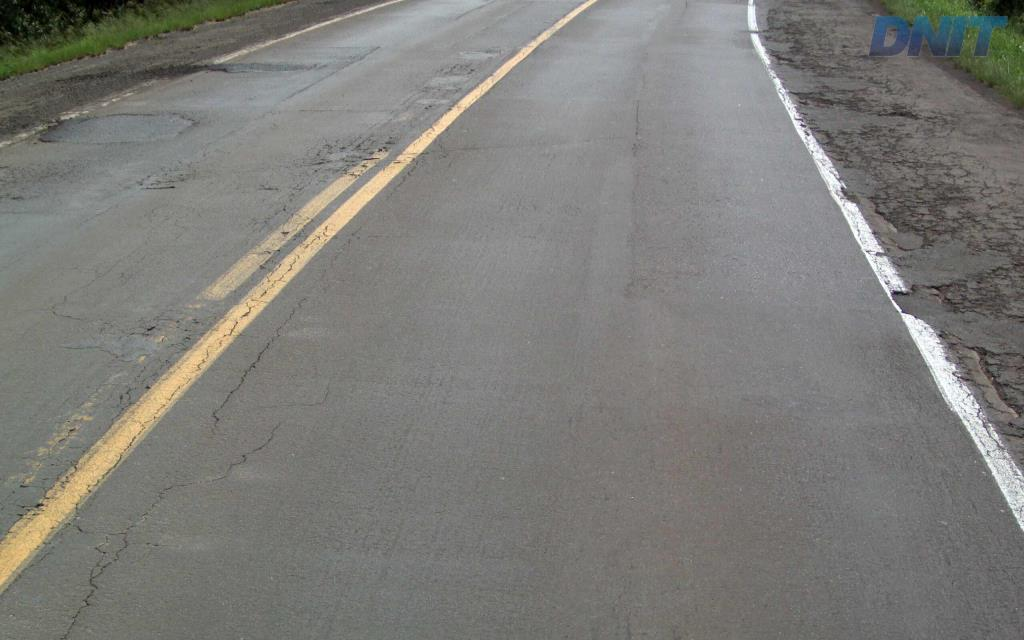crack: (205, 336, 274, 438)
